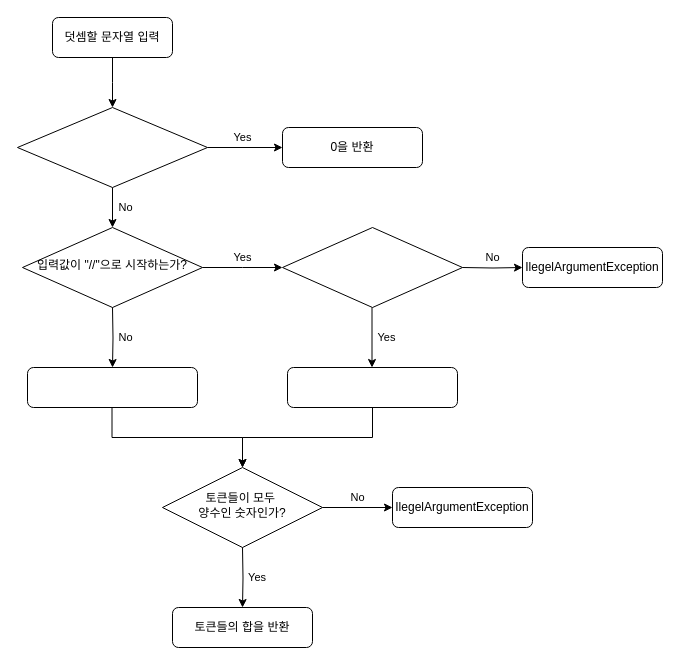
This 680x665 diagram has some shape labels left out. The centre of each missing label's shape, as x and y in pixels:
쉼표(,) 또는 콜론(:)을 기준으로 문자열을 토큰화: point (112, 387)
입력값이 빈 문자열인가?: point (112, 147)
커스텀 구분자 ("//"와 "\n" 사이에 위치한 문자) 를 가지는 문자열인가?: point (372, 267)
커스텀 구분자를 기준으로 문자열을 토큰화: point (372, 387)
